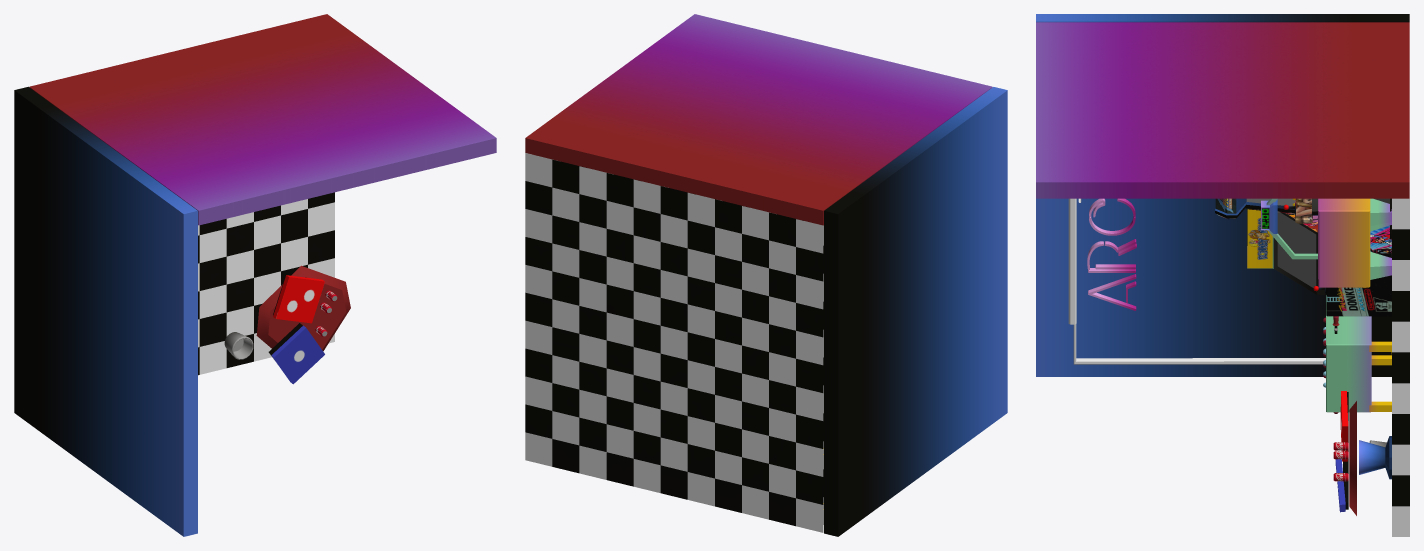
File: arcade_room.obj
3 renders of one model, left to right at view 1: azimuth 30°, elevation 25°; view 2: azimuth 150°, elevation 25°; view 3: azimuth 270°, elevation 25°, orthographic. The views are drawn at different scales.
Parts seen in each view (by area): view 1: Object032_MAT_DIffuse; view 2: Object032_MAT_DIffuse; view 3: Object032_MAT_DIffuse, G_VidrioMachines_MAT_Opacity, G_emisive_MAT_Emissive.
Part boxes in pixels (bbox=[...]): Object032_MAT_DIffuse: bbox=[14, 14, 496, 536]; Object032_MAT_DIffuse: bbox=[525, 14, 1007, 536]; Object032_MAT_DIffuse: bbox=[1036, 14, 1409, 536]; G_VidrioMachines_MAT_Opacity: bbox=[1246, 198, 1316, 287]; G_emisive_MAT_Emissive: bbox=[1087, 198, 1269, 310].
Size of the model in its own units: 3.14 by 3.18 by 2.95.
3 materials, 2 textured.
